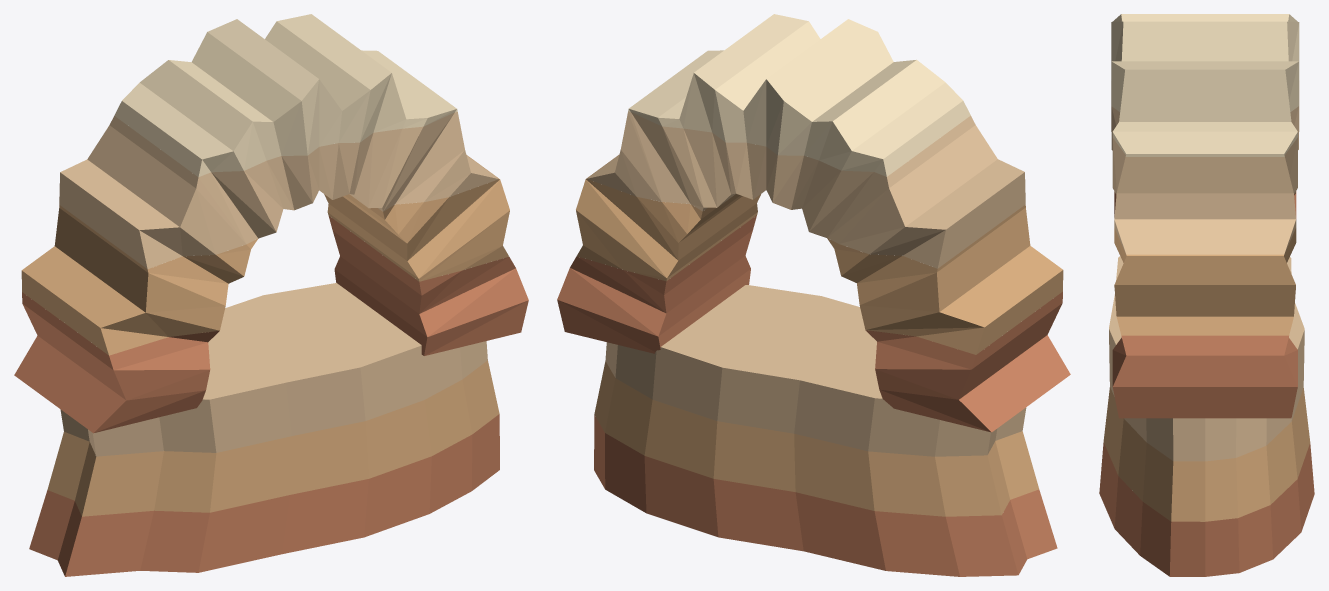
File: desert-canyons-and-oases-window-rock-0b2abe1d__20922.glb
The picture shows the model from 3 angles, left to right: view 1: azimuth 30°, elevation 25°; view 2: azimuth 150°, elevation 25°; view 3: azimuth 270°, elevation 25°; orthographic projection.
Visible parts, largest first — view 1: window-rock; view 2: window-rock; view 3: window-rock.
Boxes of the visible parts, x1,y1,x2,y2 form: window-rock: [14, 14, 528, 576]; window-rock: [557, 14, 1070, 576]; window-rock: [1099, 14, 1314, 576].
Bounding box in the file's own units: 4.95 × 4.95 × 2.12.
